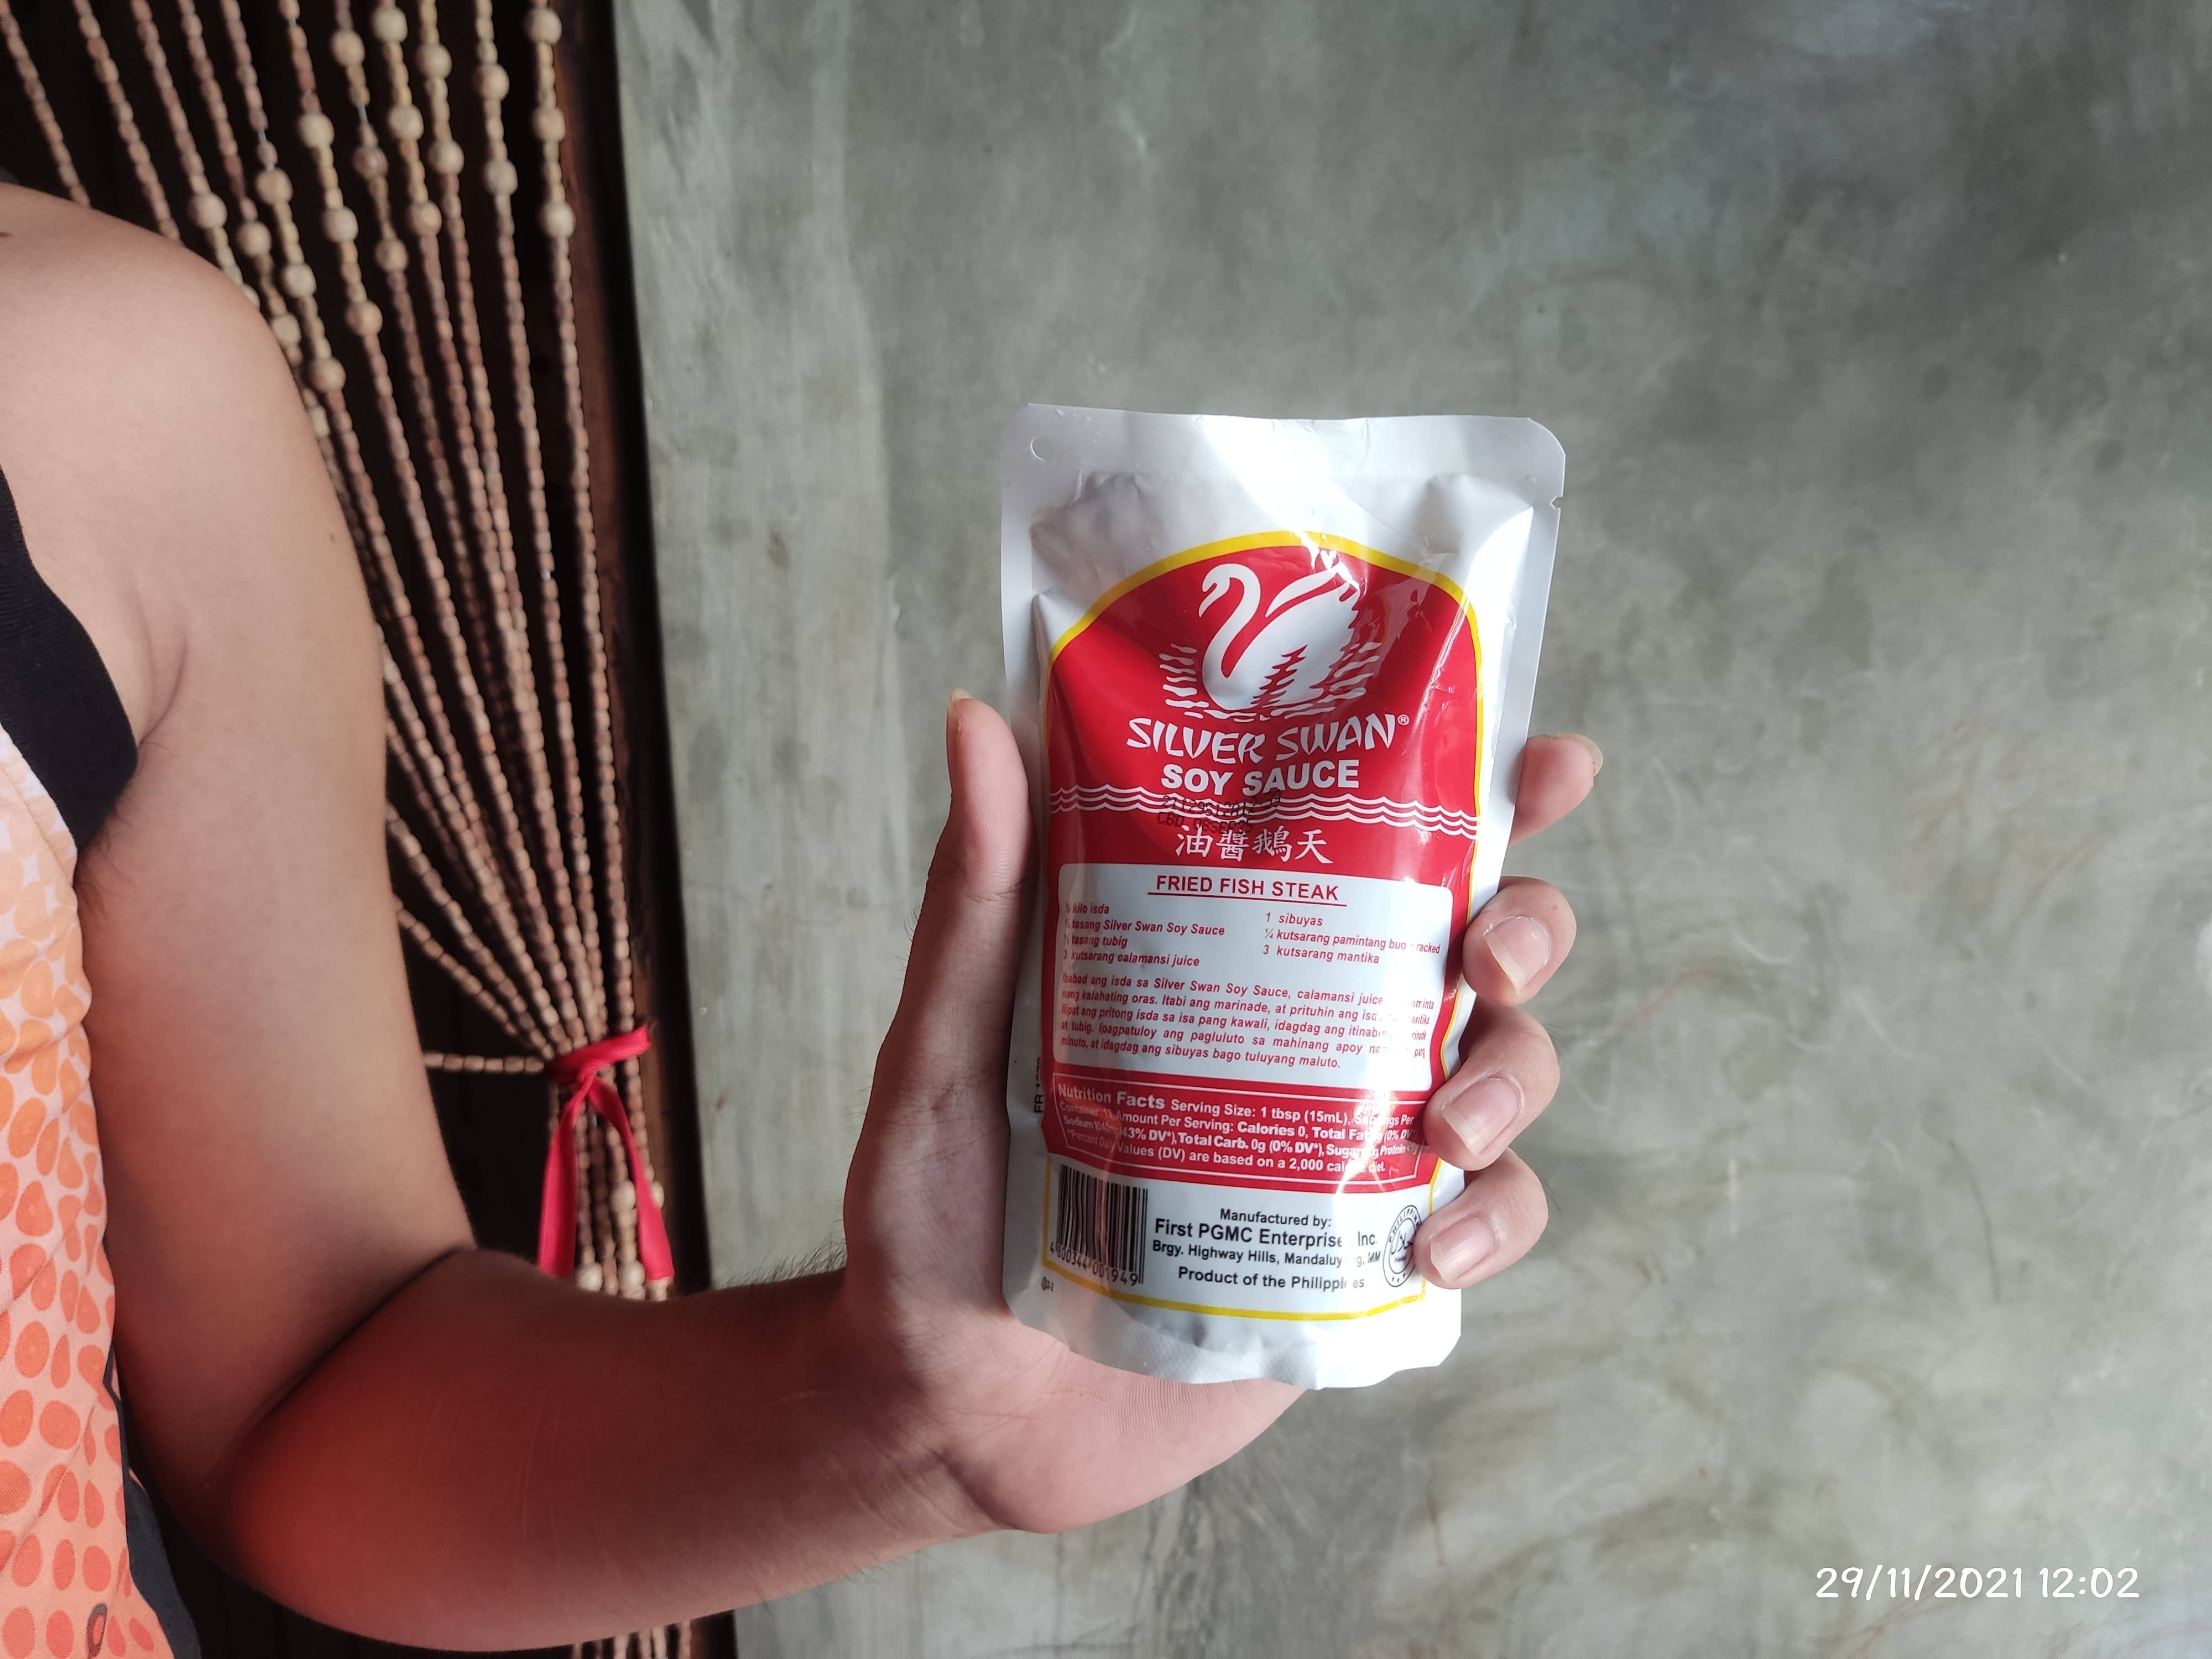soy_sauce: (972, 401, 1587, 1370)
